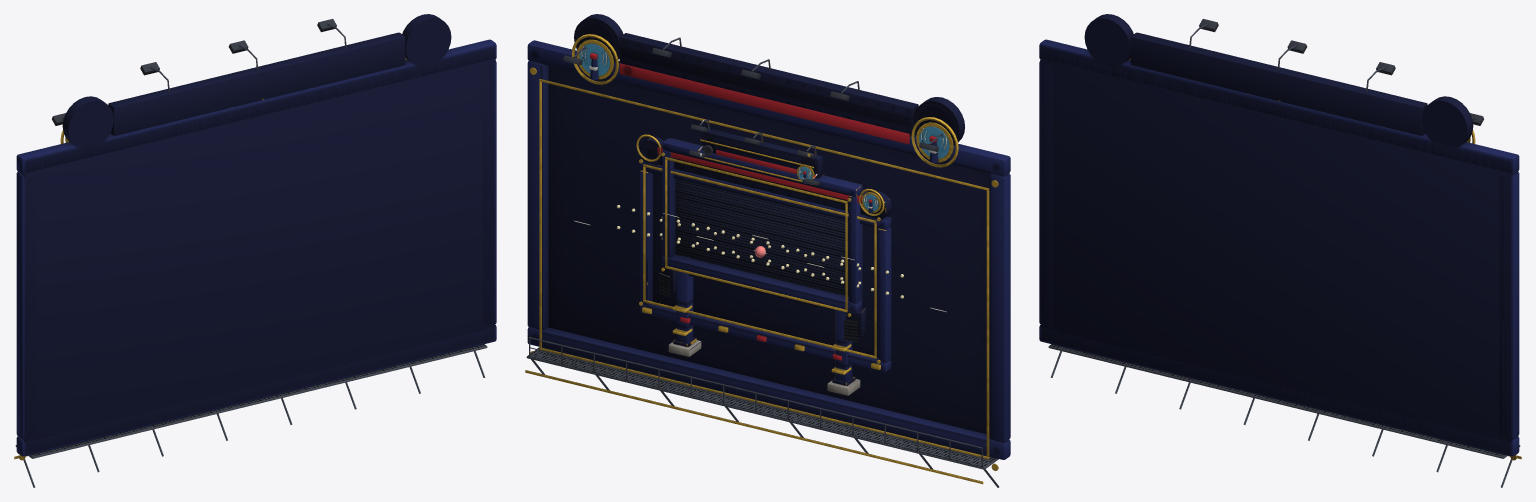
Rendered from News.fbx.
3 renders of one model, left to right at view 1: azimuth 30°, elevation 25°; view 2: azimuth 150°, elevation 25°; view 3: azimuth 330°, elevation 25°, orthographic.
Parts seen in each view (by area): view 1: UptownScreenBody.001; view 2: UptownScreenBody.001, PlazaScreenBody.001, TowerScreenBody.001, UptownScreenDetail.001, TowerScreenDetail.001, PlazaScreenDetail.001, UptownScreenBulbs.001; view 3: UptownScreenBody.001.
Boxes of the visible parts, box(x1,y1,x2,y2) form: UptownScreenBody.001: box(15, 14, 496, 487); UptownScreenBody.001: box(526, 14, 1010, 487); PlazaScreenBody.001: box(661, 119, 865, 395); TowerScreenBody.001: box(640, 137, 891, 371); UptownScreenDetail.001: box(525, 34, 998, 484); TowerScreenDetail.001: box(636, 134, 884, 369); PlazaScreenDetail.001: box(658, 139, 858, 374); UptownScreenBulbs.001: box(616, 205, 903, 298); UptownScreenBody.001: box(1039, 14, 1520, 487).
Bounding box in the file's own units: 75.2 × 56.79 × 6.56.
Materials: 11 (3 with a texture image).
